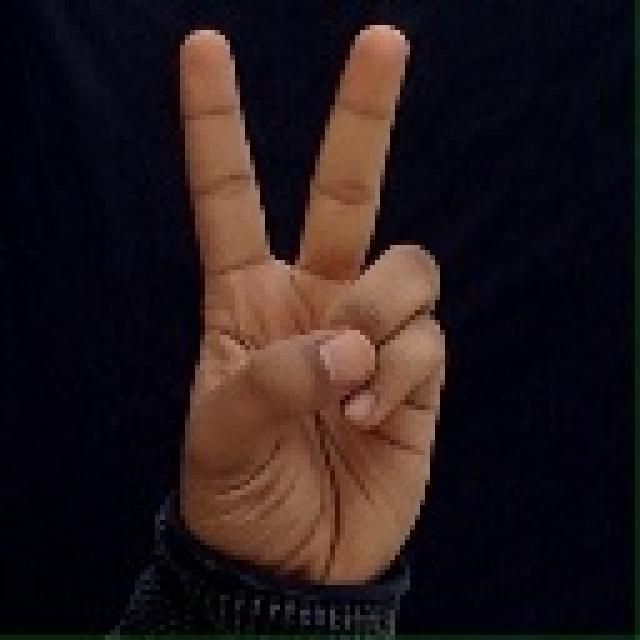No: (163, 12, 469, 619)
